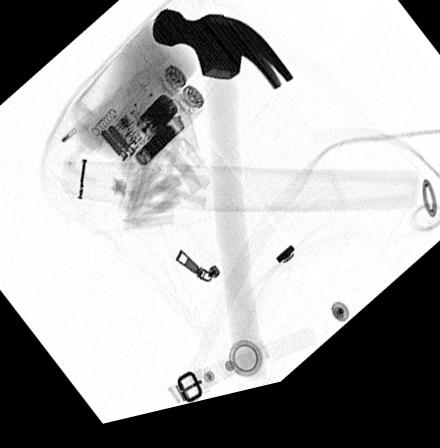Hammer: (150, 15, 293, 393)
